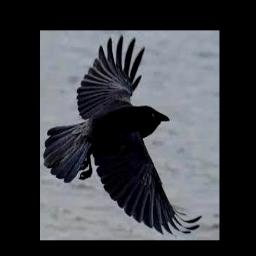Crow: (43, 35, 203, 235)
